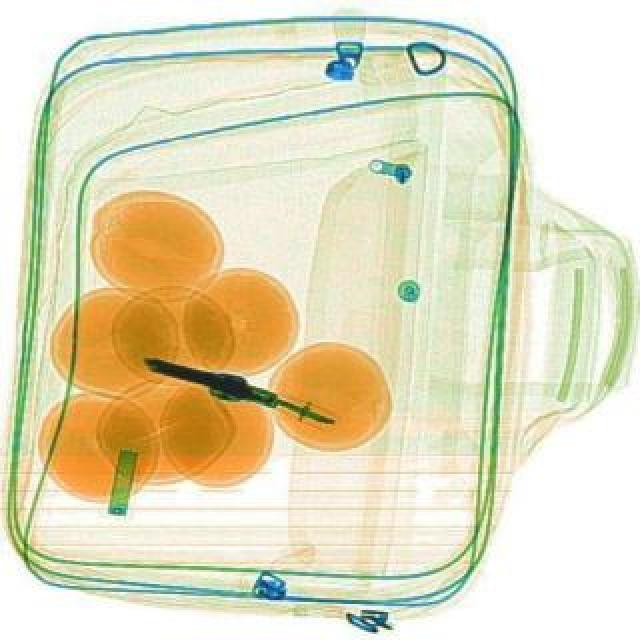gun: (138, 348, 340, 432)
